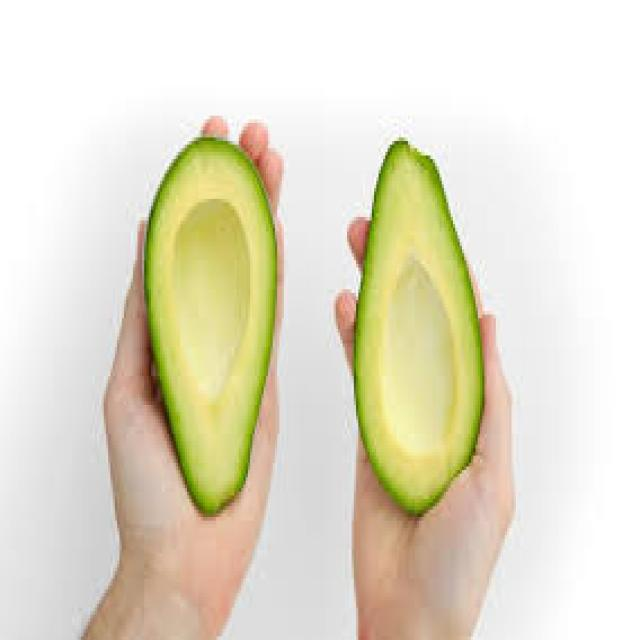avocado: (142, 119, 278, 582), (346, 106, 491, 520)
